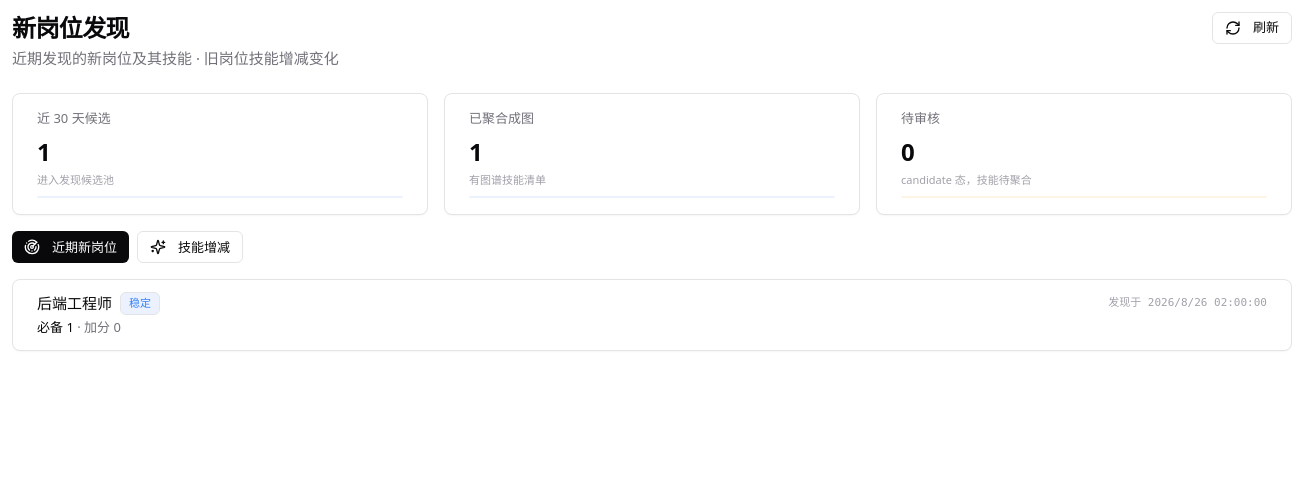
Test: DiscoveryPage › 有候选 → 展示岗位名 + 状态徽标 + 技能
Expected: the text "稳定" is shown, [120, 292, 160, 315]
Click the text "后端工程师". click: (74, 304)
box: [37, 293, 112, 314]
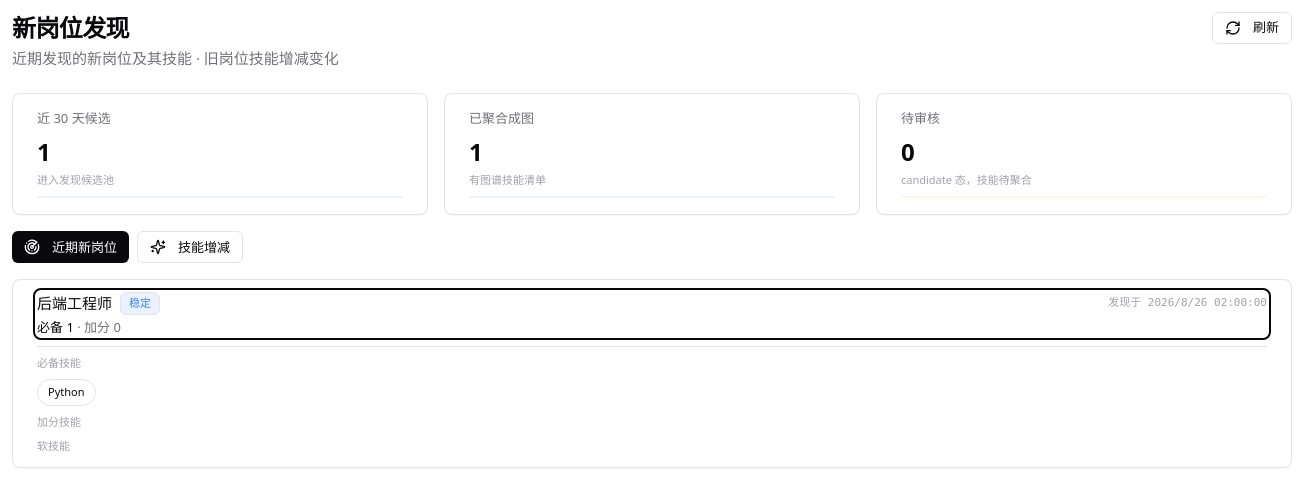
Expected: the text "Python" is shown, [37, 379, 96, 406]
